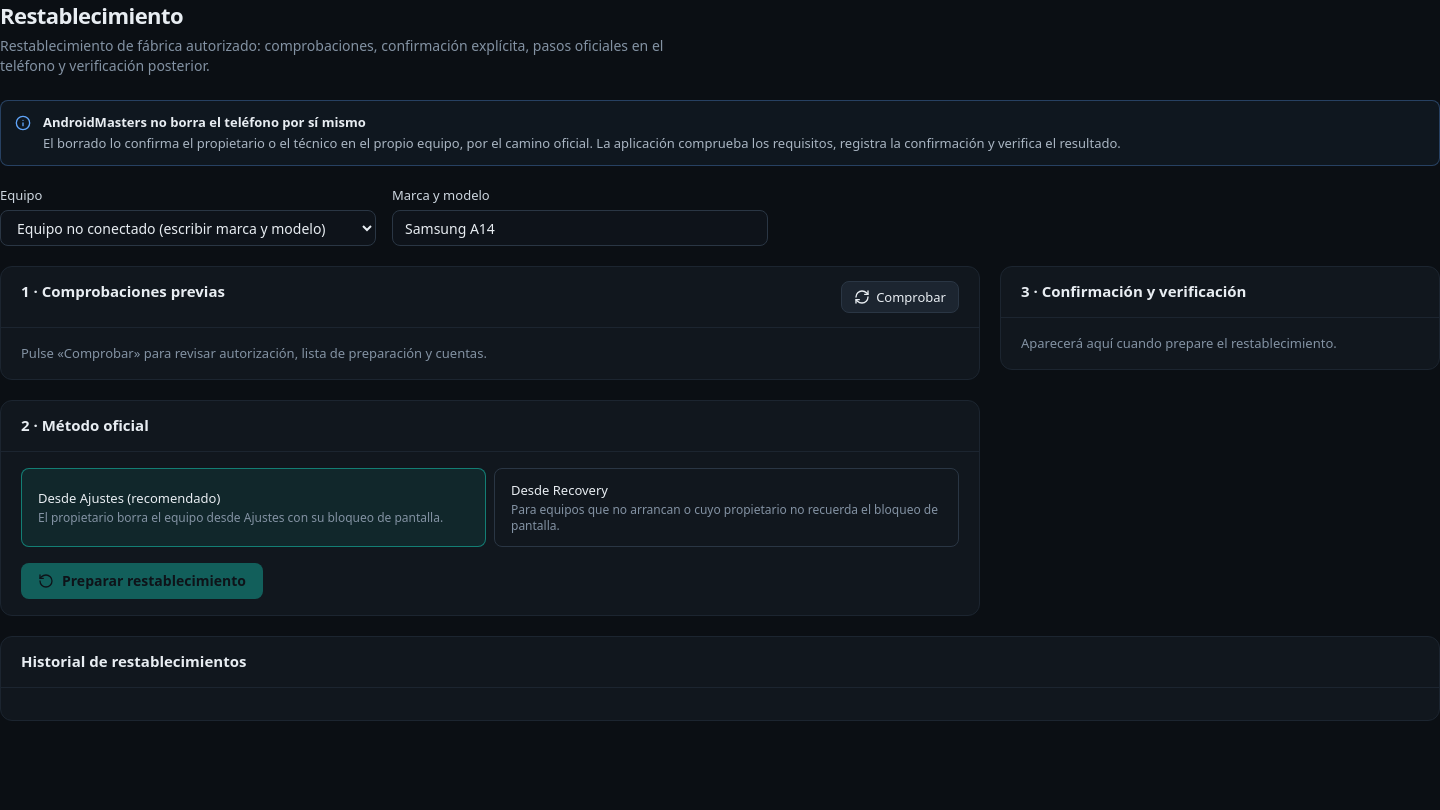
Scenario: factory reset wizard › requires the authorizing person and the exact phrase, then shows owner instructions
Earlier steps of the test are not shown.
Step 1. Click the button "Comprobar" → (900, 297), box [841,281,959,313]
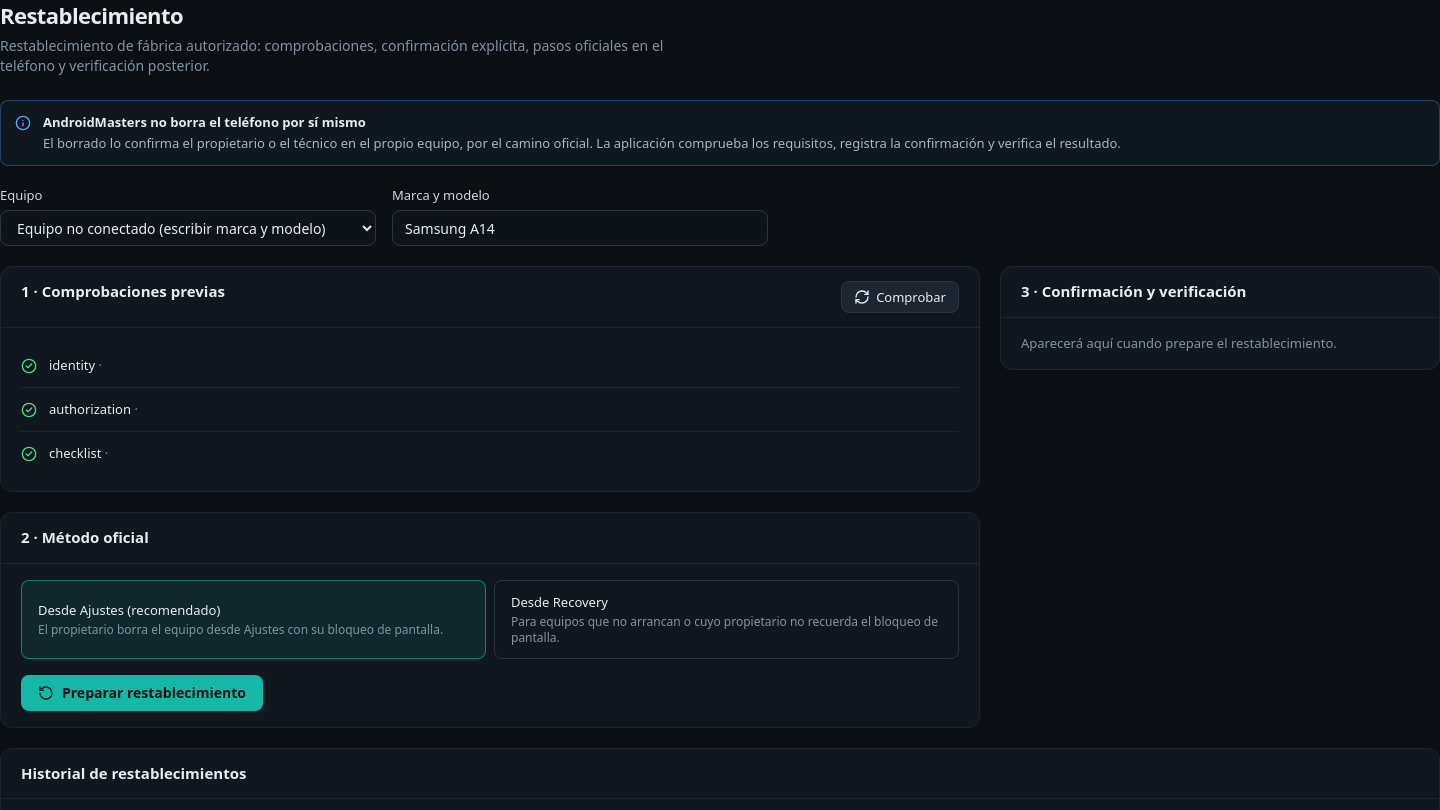
Step 2. Click the button "Preparar restablecimiento" → (142, 692), box [21,674,263,710]
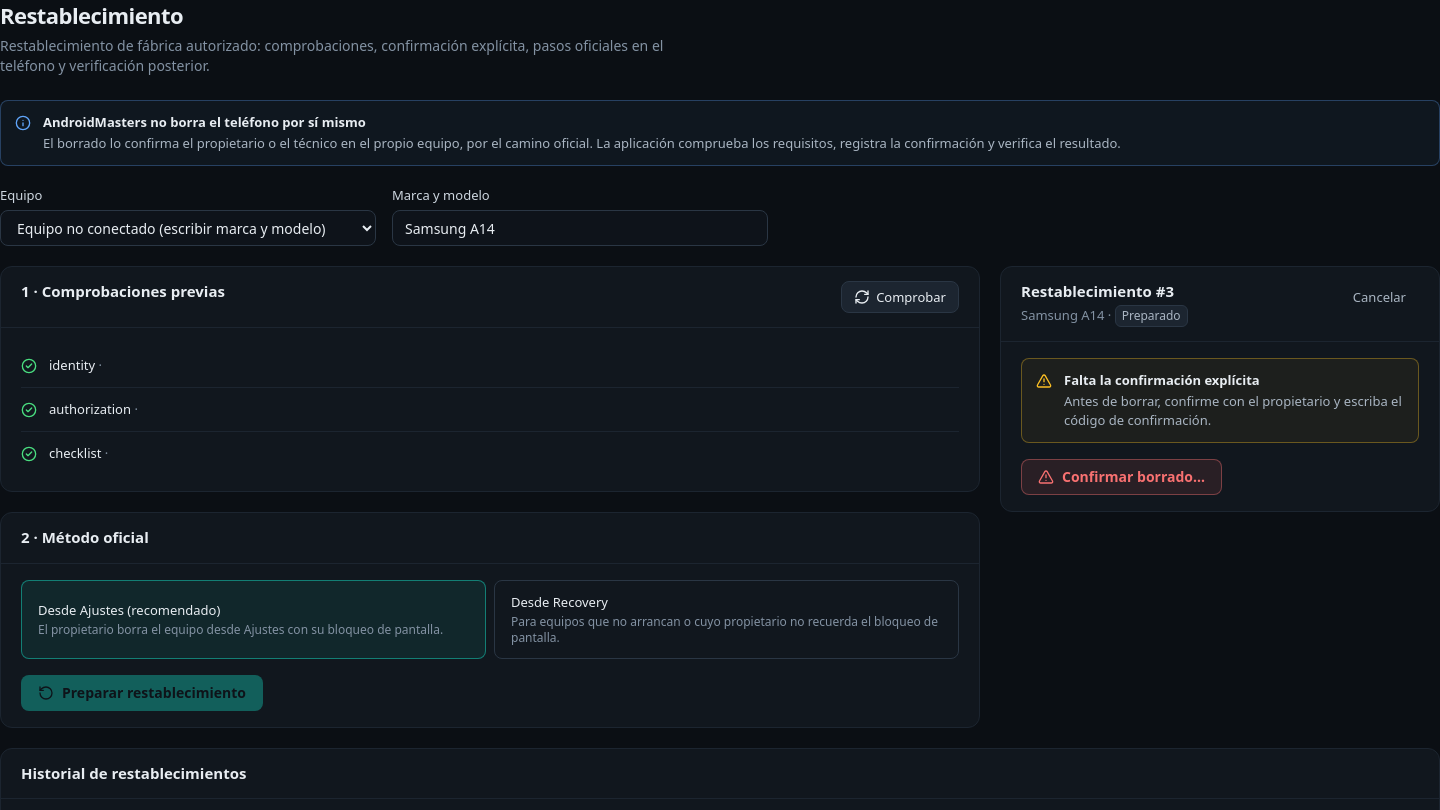
Step 3. Click the button "Confirmar borrado…" → (1122, 477), box [1021,459,1222,495]
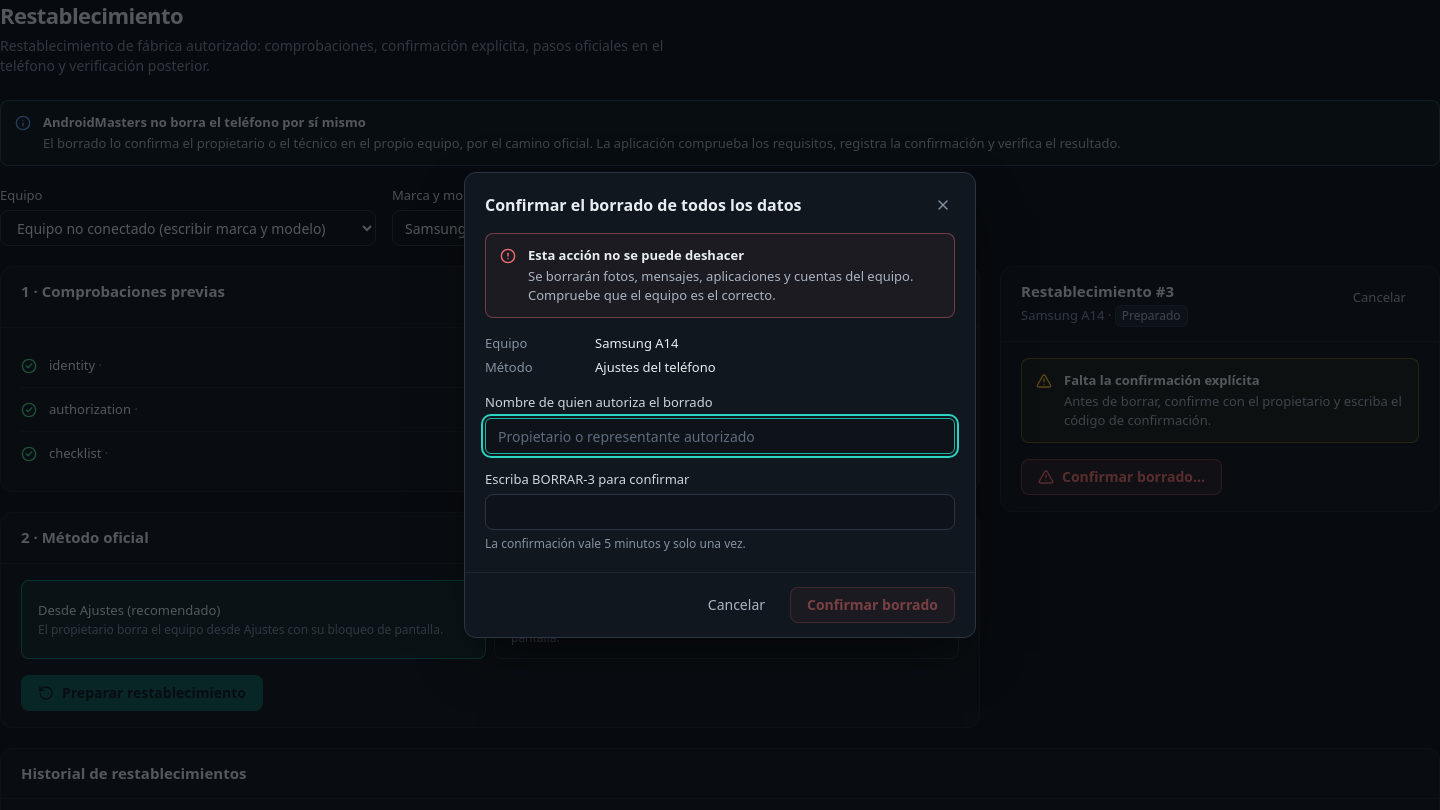
Now the field labelled "Escriba BORRAR-3 para confirmar" is shown
Step 4. Type "BORRAR-3" into the field labelled "Escriba BORRAR-3 para confirmar" → (720, 512), box [485,494,955,530]
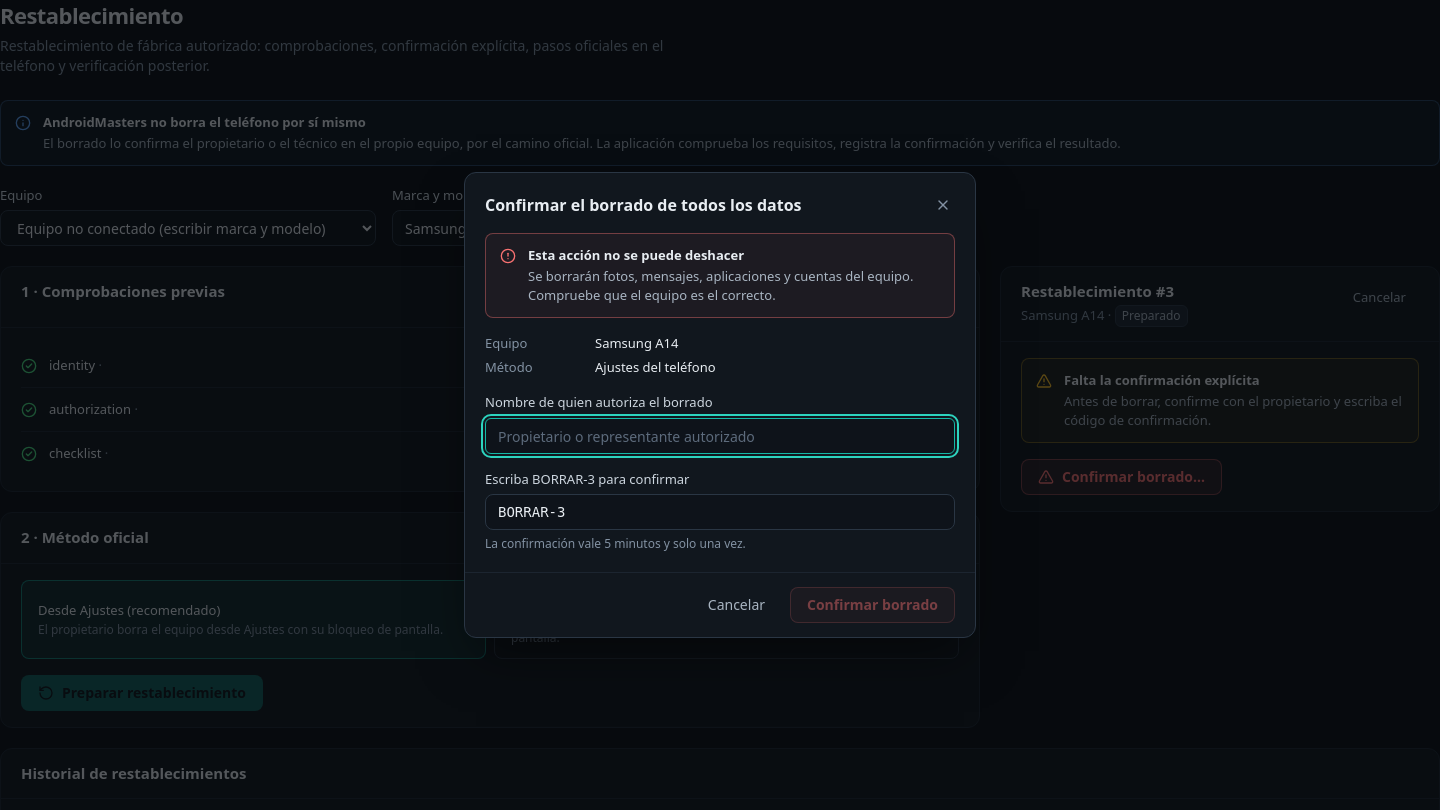
Now the button "Confirmar borrado" is disabled, box [790,588,955,624]
Step 5. Type "Luis Gómez" into the field labelled "Nombre de quien autoriza el borrado" → (720, 436), box [485,418,955,454]
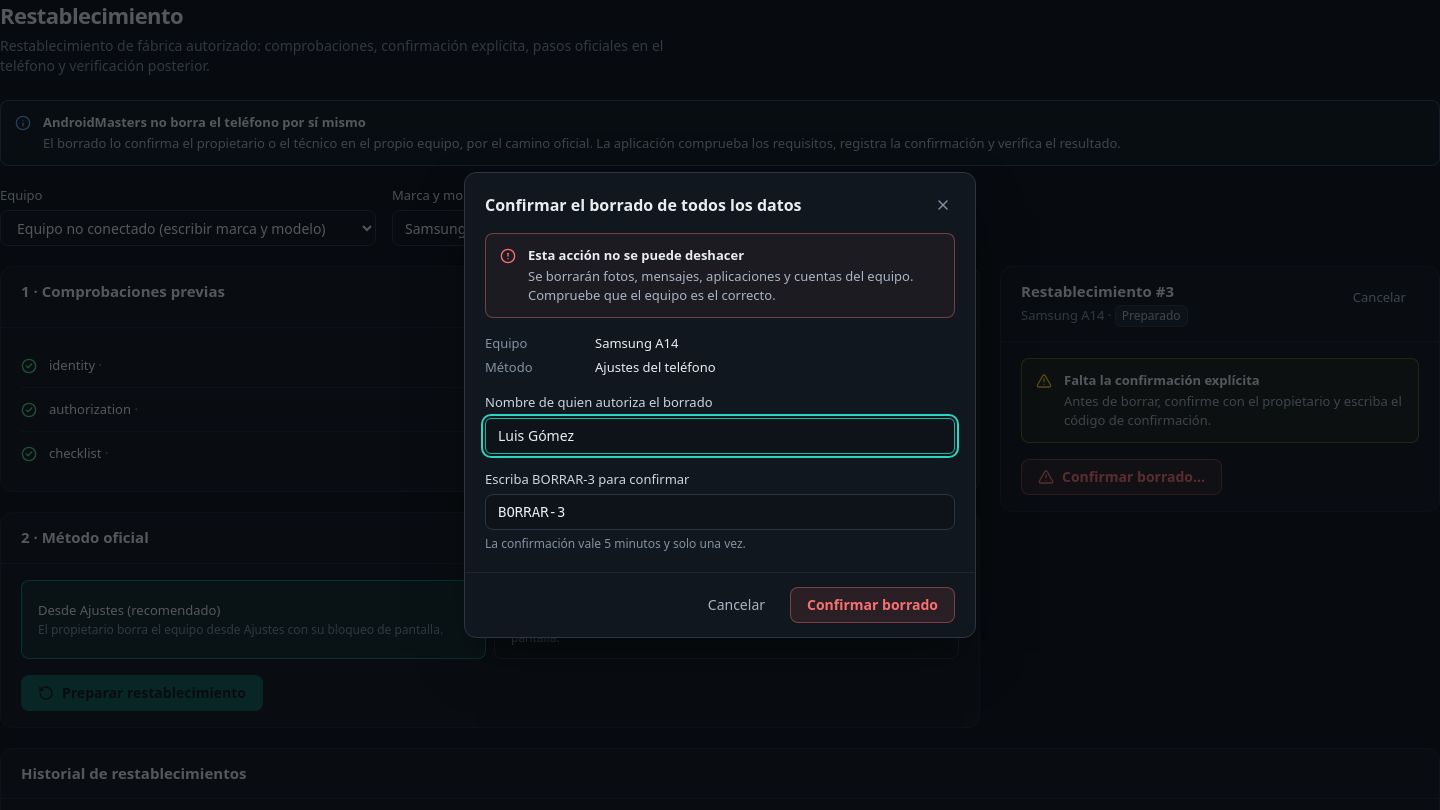
Now the button "Confirmar borrado" is enabled
Step 6. Click the button "Confirmar borrado" → (872, 606), box [790,588,955,624]
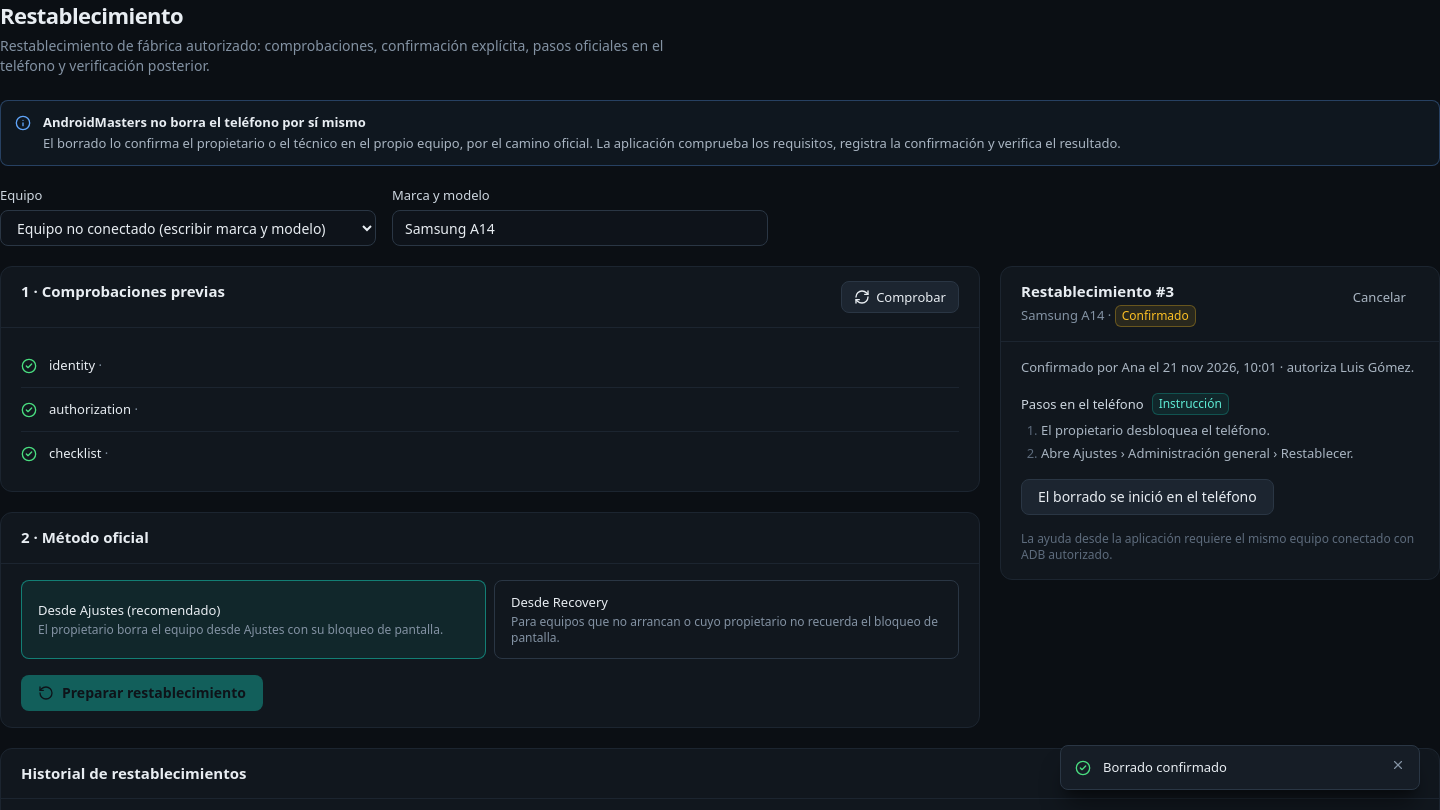
Now the heading "Pasos en el teléfono Instrucción" is shown, box [1021,393,1229,415]
Now the text "Instrucción" is shown, box [1152,393,1229,415]
